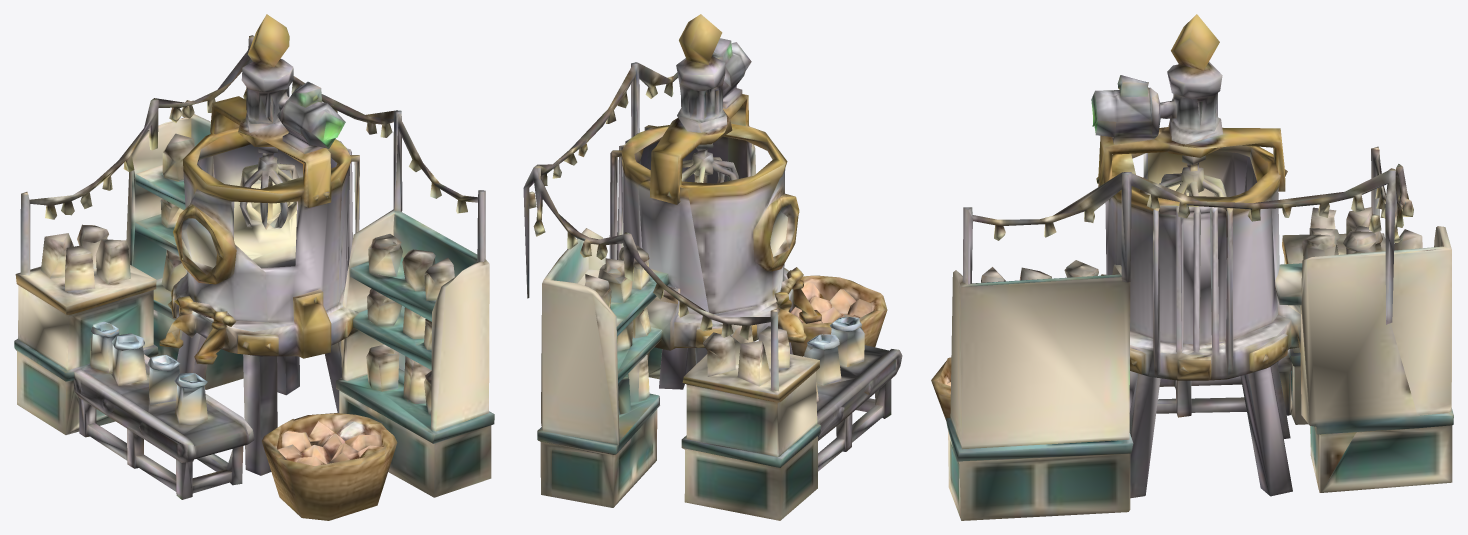
The model's file is jiaobanji-3.glb.
The picture shows the model from 3 angles, left to right: view 1: azimuth 30°, elevation 25°; view 2: azimuth 150°, elevation 25°; view 3: azimuth 270°, elevation 25°; orthographic projection. The views are drawn at different scales.
Visible parts, largest first — view 1: node_0; view 2: node_0; view 3: node_0.
Boxes of the visible parts, x1,y1,x2,y2 form: node_0: (14,14,494,520); node_0: (523,14,902,520); node_0: (931,14,1453,520).
Size of the model in its own units: 0.5637 by 0.7829 by 0.8275.
Materials: 1 (1 with a texture image).
